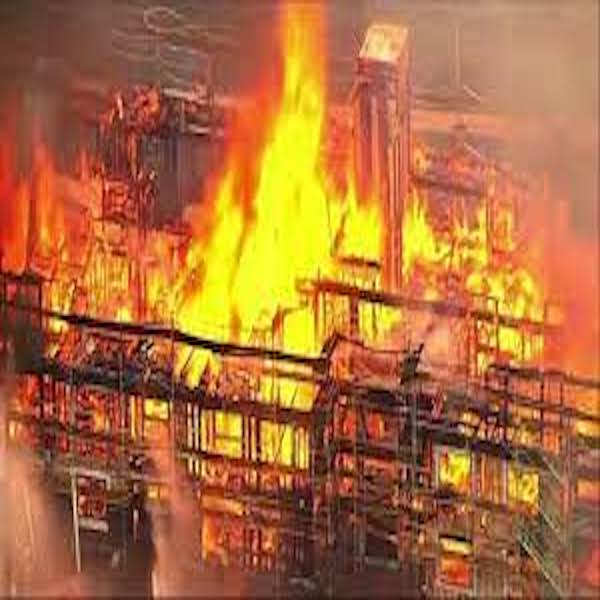fire: (192, 142, 321, 343), (9, 189, 95, 278), (469, 271, 544, 318), (328, 191, 380, 258), (401, 203, 444, 261), (210, 414, 245, 459), (262, 424, 300, 461)
